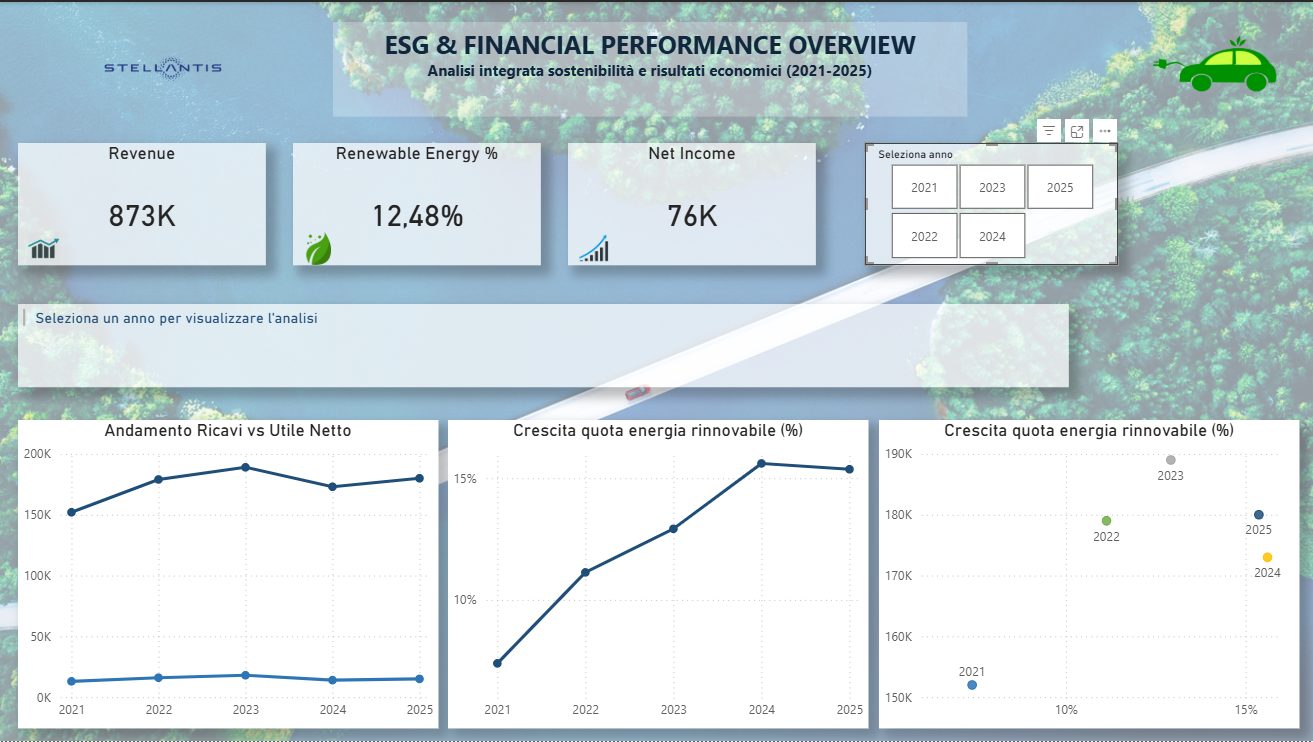

The page's visual inventory and layout, read from the dashboard file:
{"tool":"powerbi","page":{"name":"ESG & Financial Analysis","canvas":[1280,720],"ordinal":0},"visuals":[{"type":"lineChart","title":"Andamento Ricavi vs Utile Netto","fields":{"Category":["final_dataset.Year"],"Y":["Sum(final_dataset.Revenue)","Sum(final_dataset.Net_Income)"]},"box":[17.5,406.6,408.5,299.6],"z":0},{"type":"lineChart","title":"Crescita quota energia rinnovabile (%)","fields":{"Category":["final_dataset.Year"],"Y":["Avg(final_dataset.Renewable_%)"]},"box":[435.7,406.6,408.5,299.6],"z":1000},{"type":"scatterChart","title":"Crescita quota energia rinnovabile (%)","fields":{"X":["Avg(final_dataset.Renewable_%)"],"Y":["Sum(final_dataset.Revenue)"],"Series":["final_dataset.Year"]},"box":[855,406.6,408.5,299.6],"z":2000},{"type":"card","title":"Revenue","fields":{"Values":["Sum(final_dataset.Revenue)"]},"box":[17.5,137.1,241.2,118.7],"z":3000},{"type":"card","title":"Net Income","fields":{"Values":["Sum(final_dataset.Net_Income)"]},"box":[552.5,137.1,241.2,118.7],"z":4000},{"type":"card","title":"Renewable Energy %","fields":{"Values":["Avg(final_dataset.Renewable_%)"]},"box":[285,137.1,241.2,118.7],"z":5000},{"type":"slicer","fields":{"Values":["final_dataset.Year"]},"box":[841.3,137.1,246.1,118.7],"z":6000},{"type":"multiRowCard","fields":{"Values":["final_dataset.Insight_Story"]},"box":[17.5,293.7,1022.2,80.7],"z":7000},{"type":"textbox","box":[323.9,19.5,616.7,92.4],"z":8000},{"type":"image","box":[285,223.7,49.6,32.1],"z":9000},{"type":"image","box":[552.5,223.7,49.6,32.1],"z":10000},{"type":"image","box":[17.5,223.7,49.6,32.1],"z":11000},{"type":"image","box":[0,0,317.1,129.4],"z":12000},{"type":"image","box":[1121.5,0,119.6,120.6],"z":13000}]}

Visuals, with their boxes in screenshot pixels (x1, y1, x2, y2), scaled from the page's 1280x720 canvas onto the 1313x742 screenshot:
"Andamento Ricavi vs Utile Netto" lineChart: {"left": 18, "top": 419, "right": 437, "bottom": 728}
"Crescita quota energia rinnovabile (%)" lineChart: {"left": 447, "top": 419, "right": 866, "bottom": 728}
"Crescita quota energia rinnovabile (%)" scatterChart: {"left": 877, "top": 419, "right": 1296, "bottom": 728}
"Revenue" card: {"left": 18, "top": 141, "right": 265, "bottom": 264}
"Net Income" card: {"left": 567, "top": 141, "right": 814, "bottom": 264}
"Renewable Energy %" card: {"left": 292, "top": 141, "right": 540, "bottom": 264}
slicer - final_dataset.Year: {"left": 863, "top": 141, "right": 1115, "bottom": 264}
multiRowCard - final_dataset.Insight_Story: {"left": 18, "top": 303, "right": 1067, "bottom": 386}
textbox: {"left": 332, "top": 20, "right": 965, "bottom": 115}
image: {"left": 292, "top": 231, "right": 343, "bottom": 264}
image: {"left": 567, "top": 231, "right": 618, "bottom": 264}
image: {"left": 18, "top": 231, "right": 69, "bottom": 264}
image: {"left": 0, "top": 0, "right": 325, "bottom": 133}
image: {"left": 1150, "top": 0, "right": 1273, "bottom": 124}
